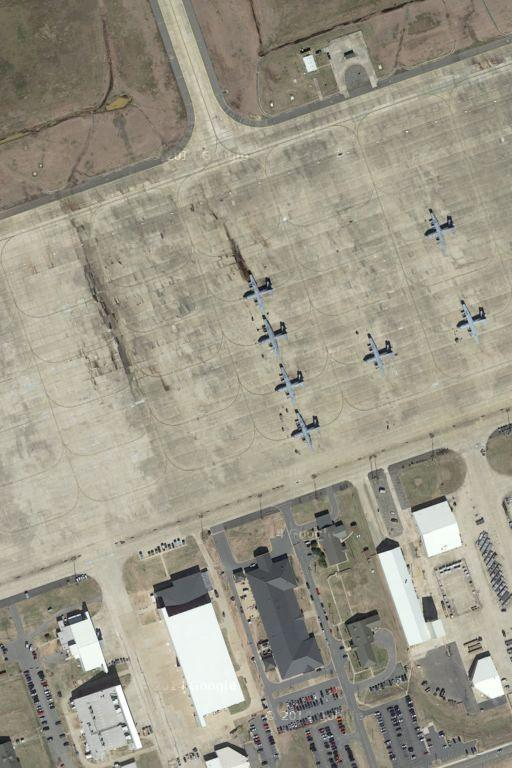C-130: (424, 207, 454, 253), (455, 299, 487, 341), (361, 332, 393, 373), (257, 314, 289, 354), (292, 405, 321, 447), (242, 269, 273, 307), (276, 361, 304, 399)
